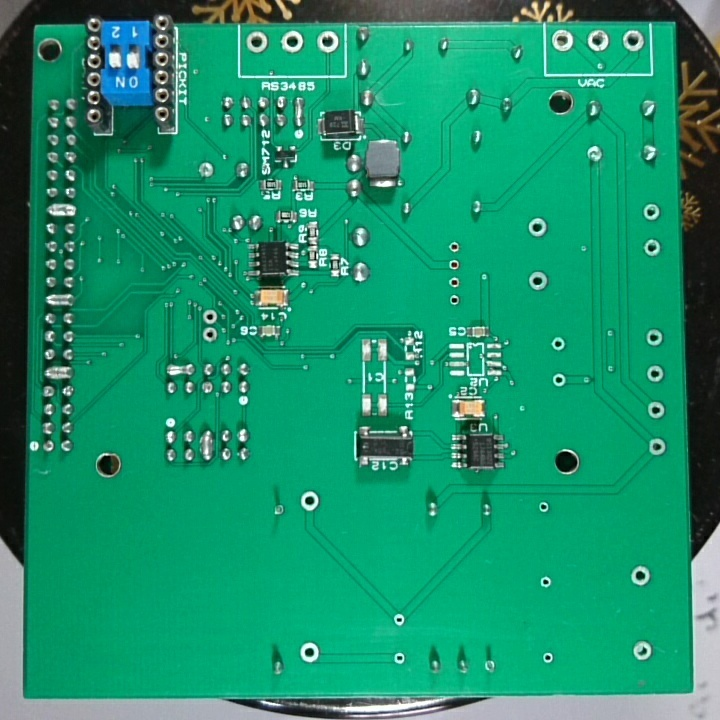F: (245, 30, 273, 60), (629, 635, 657, 664), (314, 27, 341, 57), (549, 27, 577, 55), (525, 267, 552, 296), (585, 27, 611, 55), (525, 215, 555, 239), (279, 29, 305, 56), (297, 488, 322, 515), (628, 563, 653, 589), (584, 143, 607, 171), (298, 639, 323, 664), (639, 234, 664, 259), (644, 397, 670, 421), (621, 30, 645, 55), (642, 325, 667, 349), (644, 435, 670, 458), (643, 364, 669, 386), (548, 331, 570, 356), (389, 647, 413, 669), (640, 200, 661, 225), (194, 159, 217, 180), (199, 323, 219, 347), (539, 648, 564, 667), (480, 655, 503, 675), (267, 501, 287, 523), (199, 306, 221, 326), (551, 369, 570, 392), (536, 570, 553, 594), (445, 238, 464, 255), (537, 498, 553, 518), (200, 379, 215, 400), (39, 437, 56, 455), (445, 257, 464, 273), (392, 611, 408, 629), (445, 292, 462, 307), (445, 275, 462, 290)
P: (41, 362, 76, 383), (44, 289, 77, 309), (46, 200, 79, 220), (164, 361, 196, 381), (290, 93, 306, 132), (199, 429, 211, 464)
